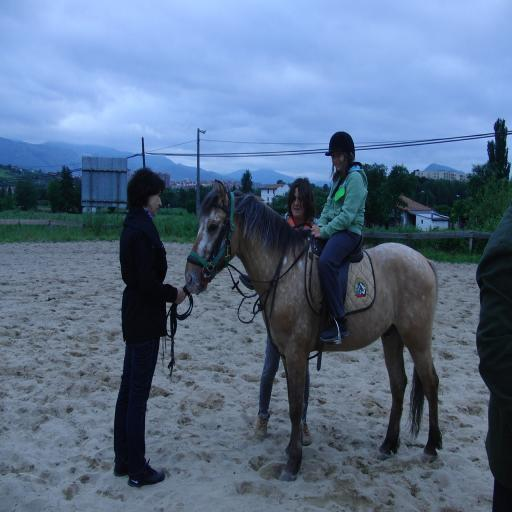horse: (184, 180, 442, 483)
